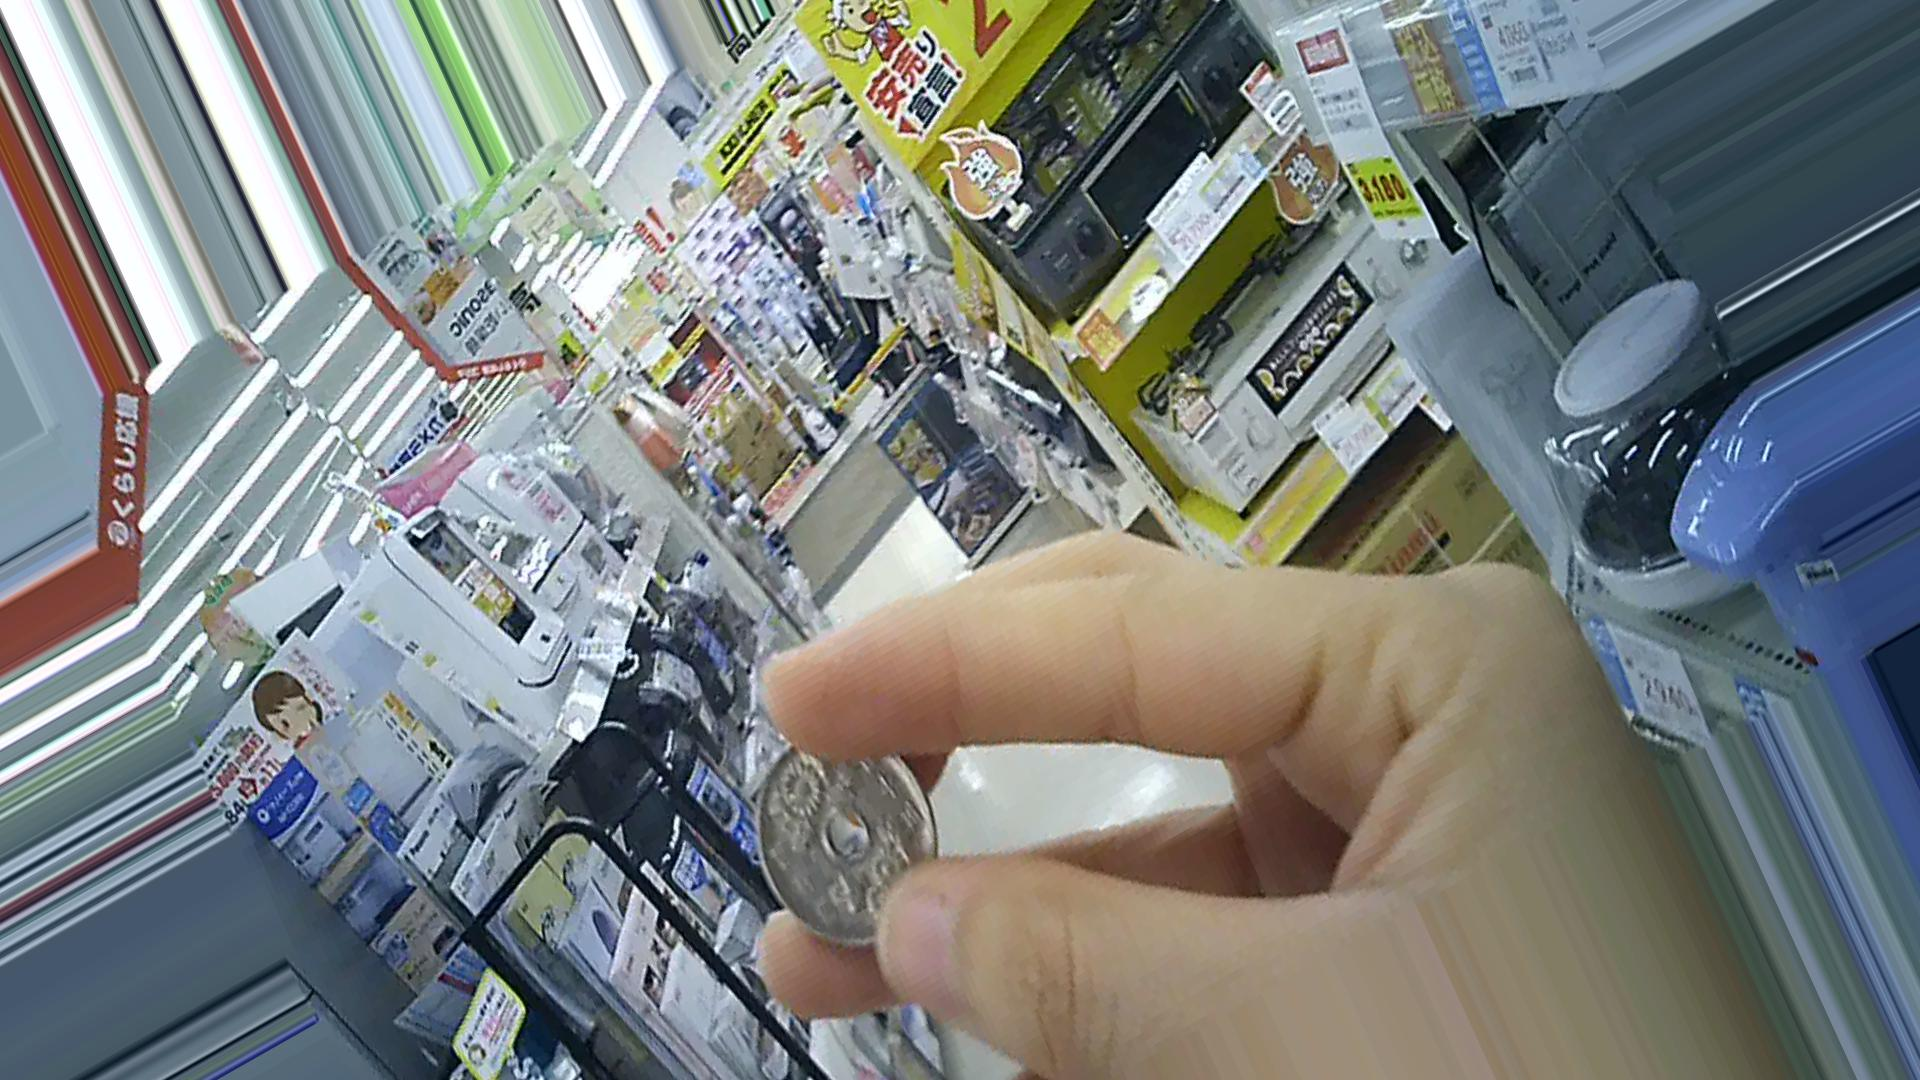50 Yen: (760, 738, 943, 957)
